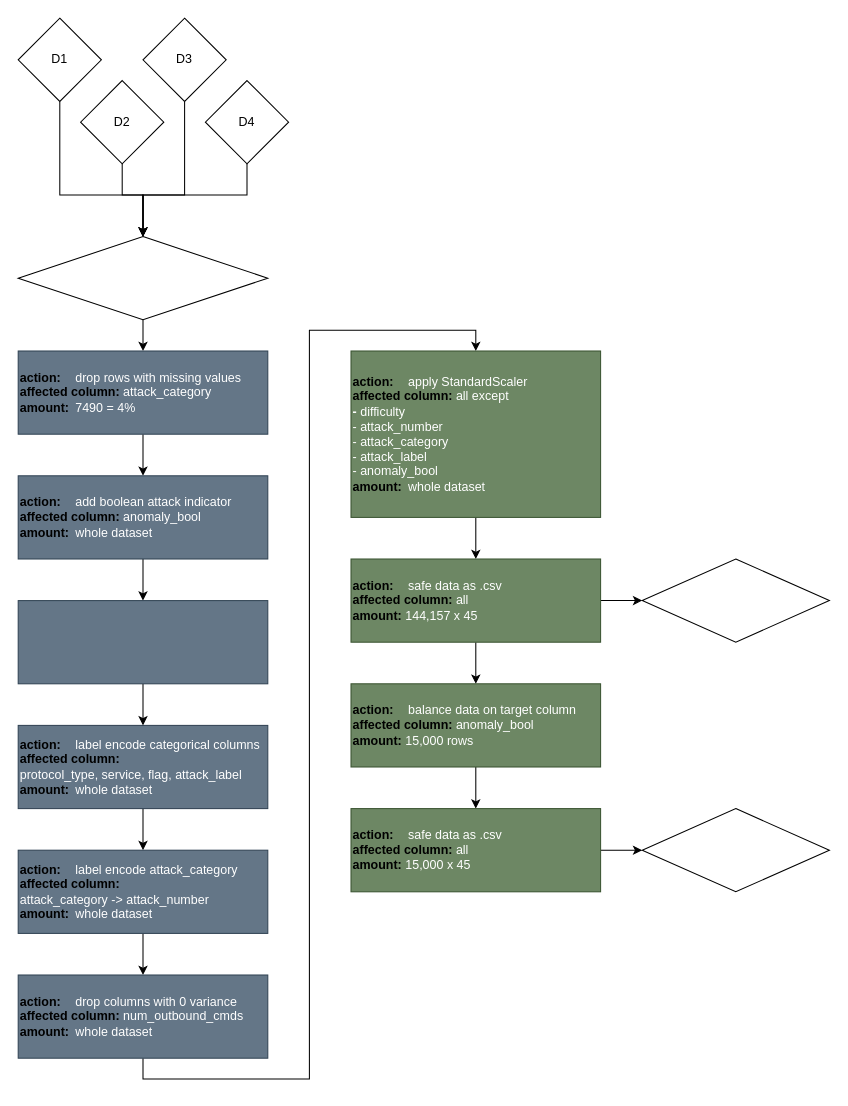
This 848x1106 diagram has some shape labels left out. Each missing label, with the centre of its shape:
action: drop duplicate rows affected column: all amount: 33,912: pixel 142 642
concatenated_df: pixel 142 278
SCA_balanced.csv: pixel 735 850
SCA_processed.csv: pixel 735 600
